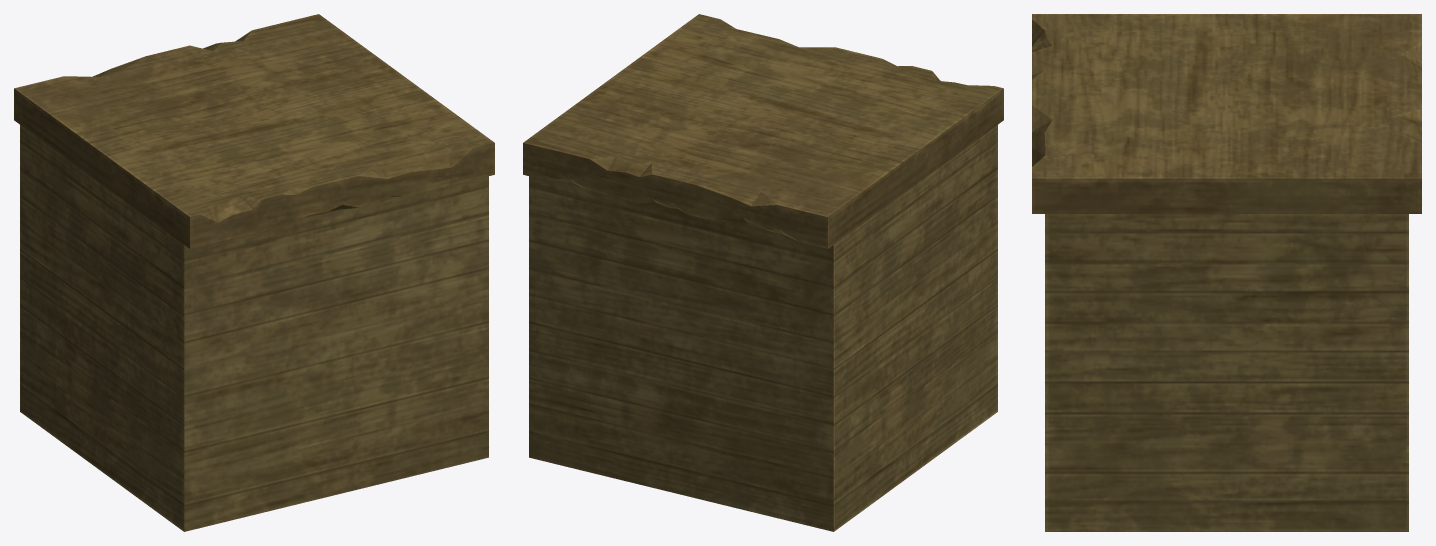
The model's file is sb_obj_outdoor029_house03_wall02_ruins.fbx.
3 renders of one model, left to right at view 1: azimuth 30°, elevation 25°; view 2: azimuth 150°, elevation 25°; view 3: azimuth 270°, elevation 25°, orthographic. The views are drawn at different scales.
Visible parts, largest first — view 1: sb_obj_outdoor029_house03_wall02_ruins; view 2: sb_obj_outdoor029_house03_wall02_ruins; view 3: sb_obj_outdoor029_house03_wall02_ruins.
Boxes of the visible parts, <box> form: sb_obj_outdoor029_house03_wall02_ruins: <box>14,14,494,531</box>; sb_obj_outdoor029_house03_wall02_ruins: <box>523,14,1003,531</box>; sb_obj_outdoor029_house03_wall02_ruins: <box>1032,14,1421,531</box>.
Bounding box in the file's own units: 3 × 3 × 3.
